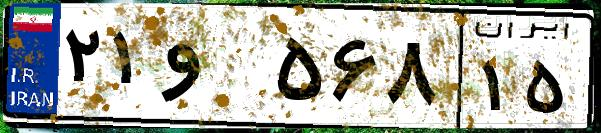1: (475, 38, 525, 113), (110, 28, 158, 98)
2: (57, 26, 110, 100)
5: (270, 28, 330, 110), (525, 38, 570, 115)
6: (330, 28, 385, 110)
8: (385, 28, 445, 110)
و: (158, 20, 270, 120)
